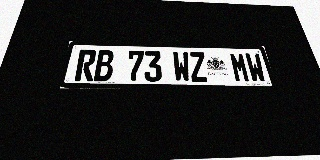3: (144, 51, 162, 82)
7: (126, 50, 144, 82)
B: (93, 50, 114, 81)
M: (229, 53, 251, 82)
R: (74, 49, 97, 81)
W: (244, 53, 267, 82), (172, 51, 191, 82)
Z: (189, 52, 208, 82)
